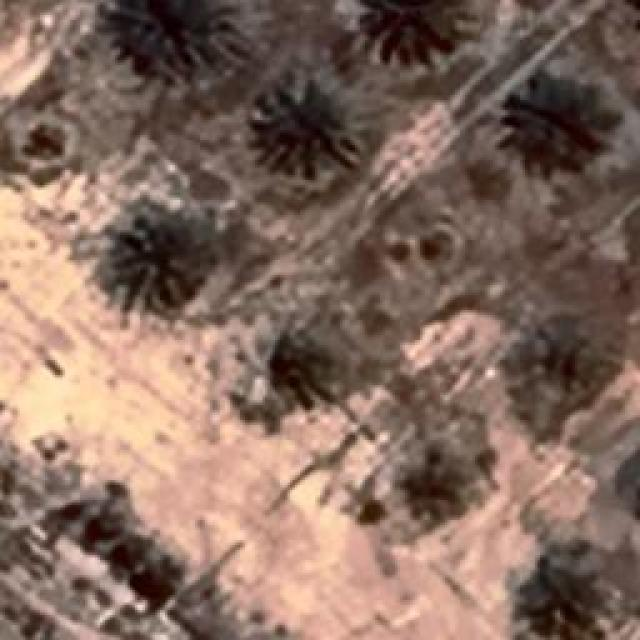PalmTree: (103, 93, 569, 591), (92, 98, 289, 362), (502, 76, 606, 176), (98, 208, 198, 310), (260, 72, 352, 172), (110, 0, 240, 62), (392, 434, 476, 522), (355, 0, 475, 60)
